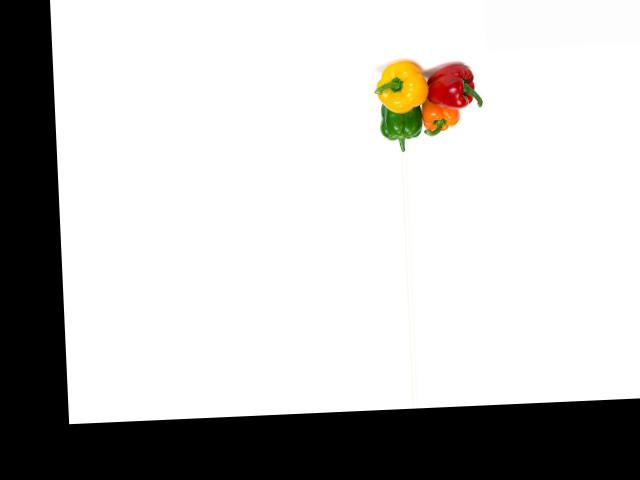bell_pepper: (370, 57, 431, 114)
